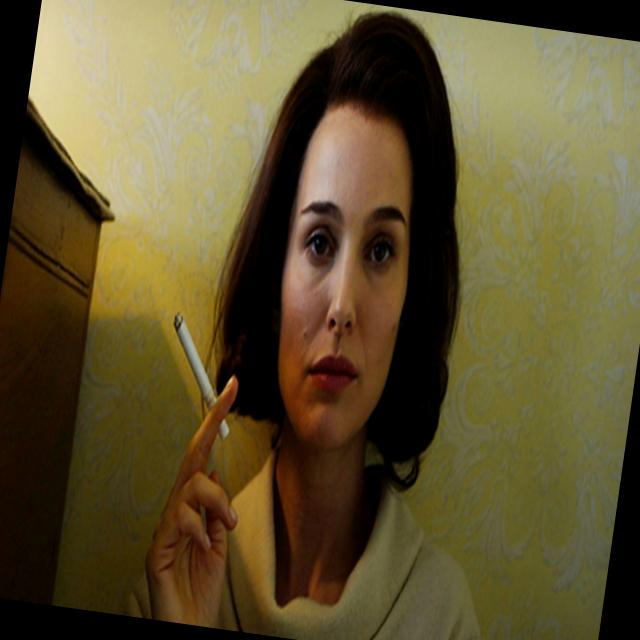smoke: (142, 288, 258, 452)
